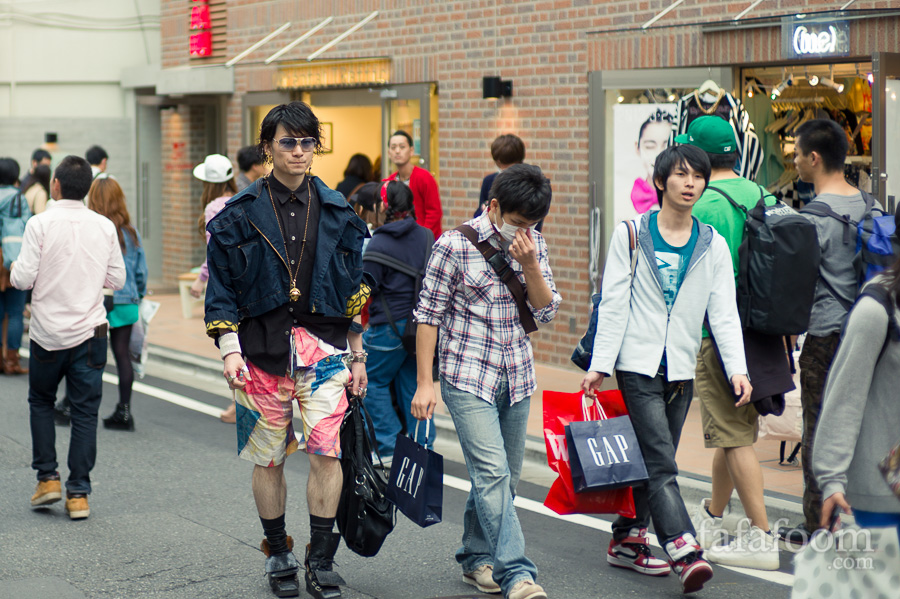person: (560, 142, 755, 593), (195, 96, 362, 598), (392, 164, 570, 599), (669, 112, 801, 573), (8, 151, 136, 523), (782, 116, 894, 521), (359, 175, 451, 459), (88, 179, 159, 437), (378, 129, 455, 237), (190, 148, 232, 241), (234, 144, 267, 177)
